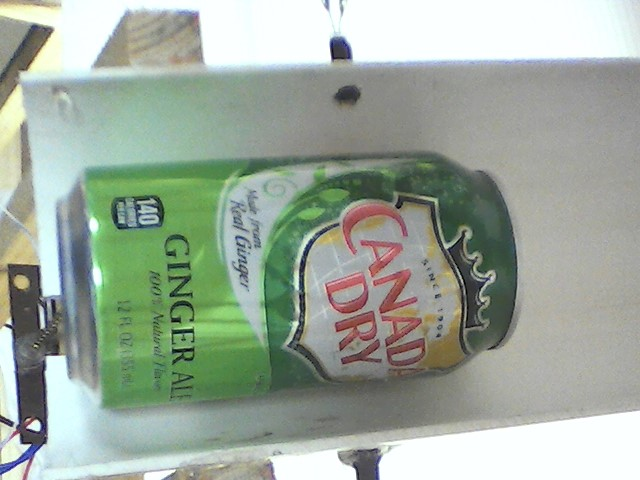lata: (52, 149, 528, 411)
